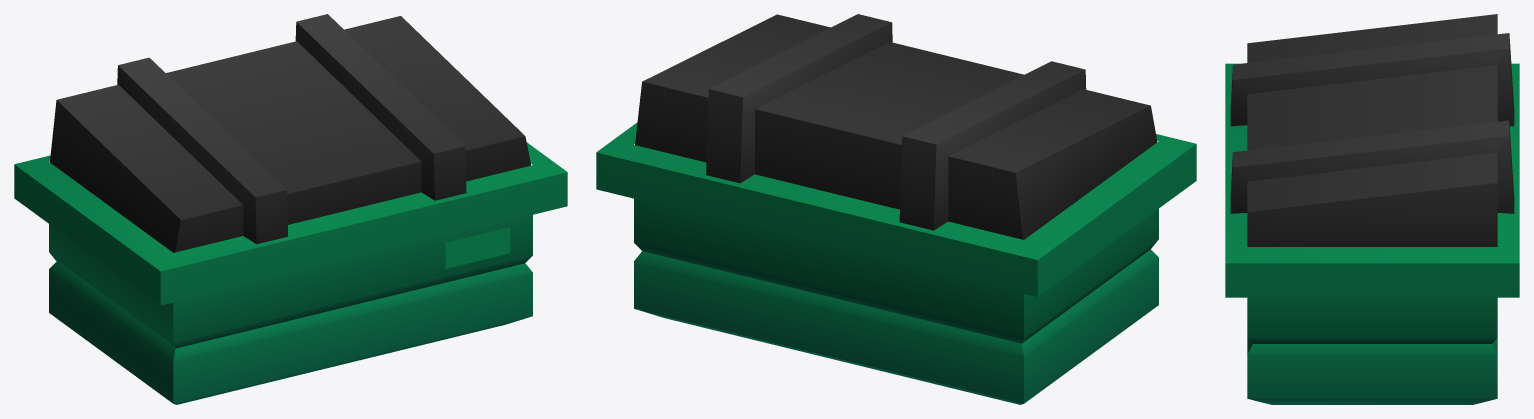
Rendered from city-dumpster.glb.
The picture shows the model from 3 angles, left to right: view 1: azimuth 30°, elevation 25°; view 2: azimuth 150°, elevation 25°; view 3: azimuth 270°, elevation 25°; orthographic projection. The views are drawn at different scales.
Parts seen in each view (by area): view 1: dumpster; view 2: dumpster; view 3: dumpster.
Boxes of the visible parts, bbox=[...] form: dumpster: bbox=[14, 14, 567, 404]; dumpster: bbox=[596, 14, 1196, 404]; dumpster: bbox=[1225, 14, 1519, 404].
Bounding box in the file's own units: 0.5659 × 0.3173 × 0.3528.
